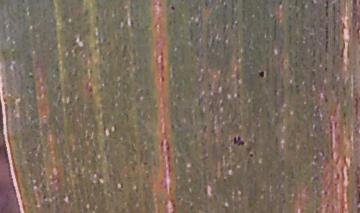tarspot: (229, 133, 248, 149), (255, 67, 269, 83), (168, 2, 178, 14), (246, 148, 256, 160)
